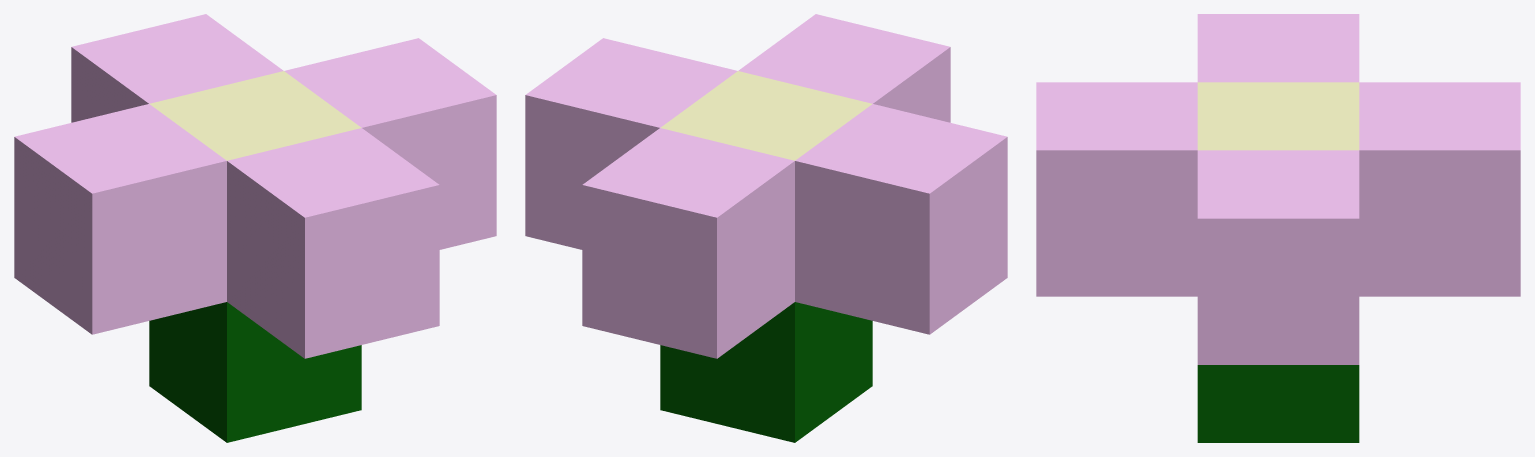
The model's file is flower1.dae.
3 views of the same model, side by side, from view 1: azimuth 30°, elevation 25°; view 2: azimuth 150°, elevation 25°; view 3: azimuth 270°, elevation 25° (orthographic). The views are drawn at different scales.
Visible parts, largest first — view 1: flower1; view 2: flower1; view 3: flower1.
Boxes of the visible parts, bbox=[...] form: flower1: bbox=[14, 14, 496, 442]; flower1: bbox=[525, 14, 1007, 442]; flower1: bbox=[1036, 14, 1520, 442].
Bounding box in the file's own units: 0.3 × 0.3 × 0.2.
1 material, 1 textured.
